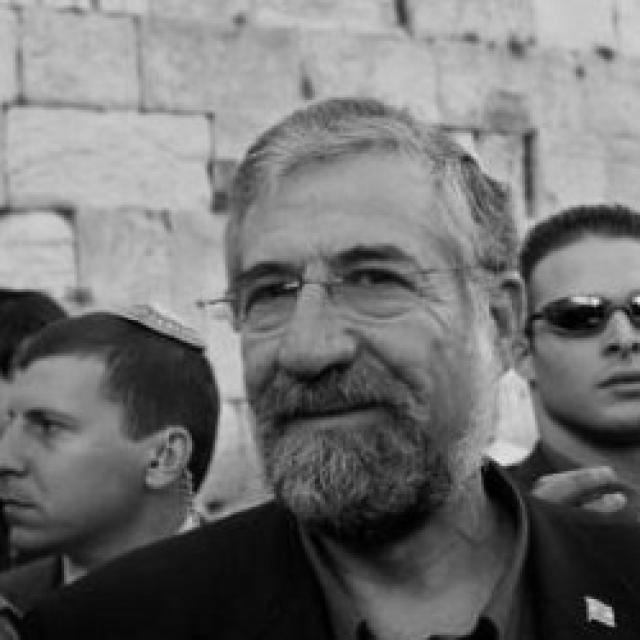fake: (538, 282, 640, 337)
real: (236, 156, 479, 530), (0, 305, 220, 559), (516, 200, 640, 448), (240, 249, 415, 325), (6, 400, 85, 448)
